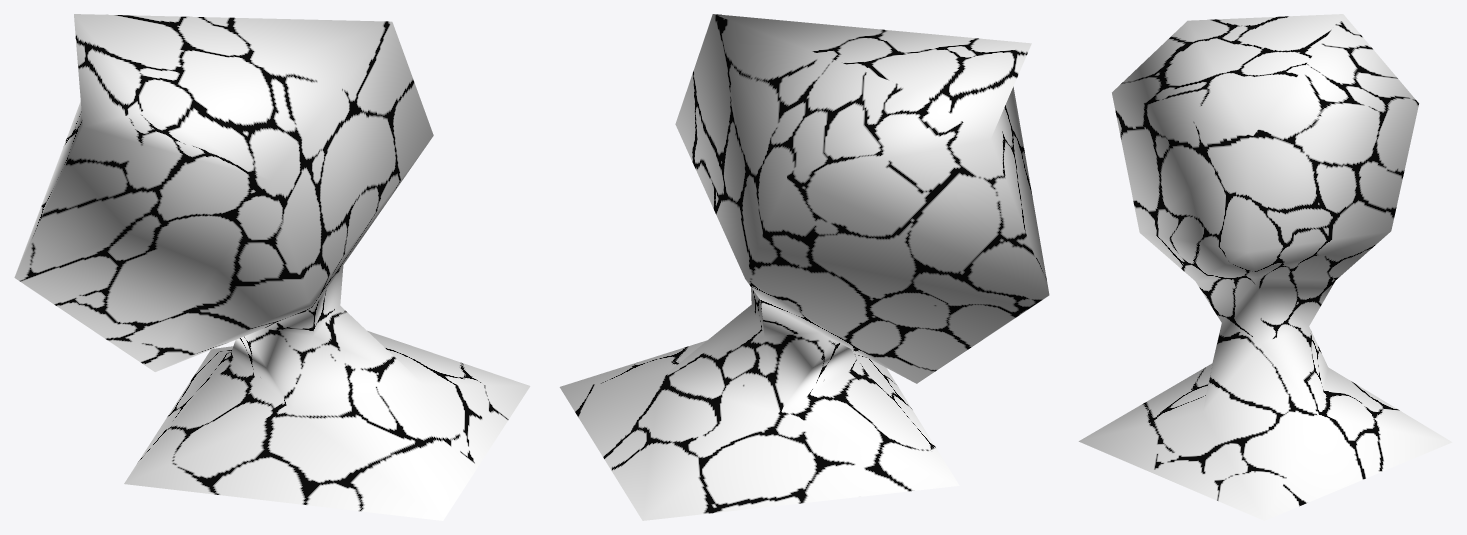
Rendered from Stone_03_02.fbx.
The picture shows the model from 3 angles, left to right: view 1: azimuth 30°, elevation 25°; view 2: azimuth 150°, elevation 25°; view 3: azimuth 270°, elevation 25°; orthographic projection. The views are drawn at different scales.
Parts seen in each view (by area): view 1: Stone_03_02; view 2: Stone_03_02; view 3: Stone_03_02.
Boxes of the visible parts, box(x1,y1,x2,y2) form: Stone_03_02: box(14, 14, 530, 520); Stone_03_02: box(559, 14, 1049, 520); Stone_03_02: box(1078, 14, 1452, 520).
Size of the model in its own units: 21.36 by 17.58 by 17.13.
